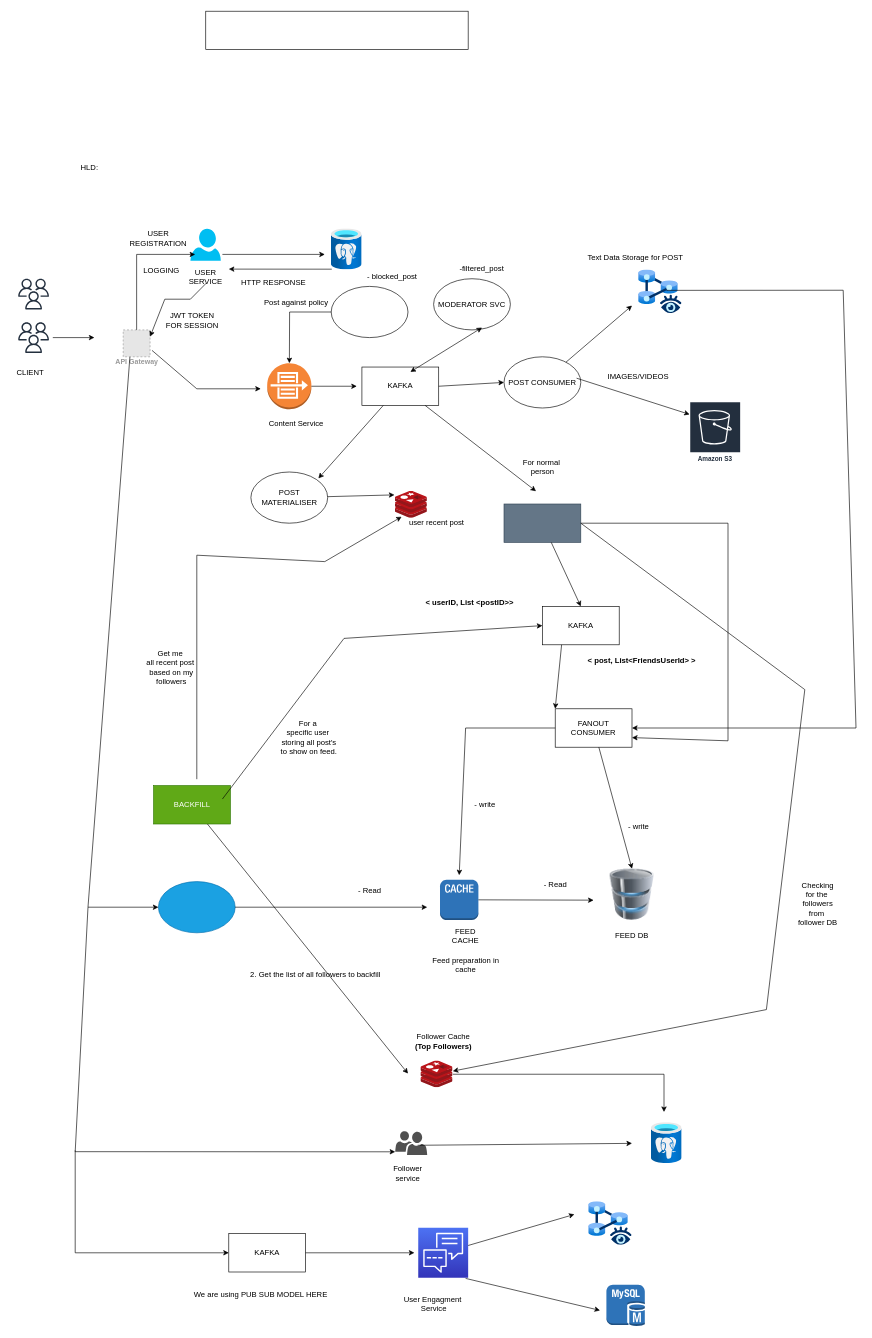
This 872x1338 diagram has some shape labels left out. Grey dashed boxes stand in for pictures. The shapes that lost their labels are listed below. From the top down, each one's centre as x and y in pixels, then its label:
point (336, 30): To design a social media platform like instagram or facebook
point (33, 293): Users
point (369, 312): NOTIFICATION SVC
point (542, 522): FANOUT PUSH
point (196, 907): FEED SERVICE
